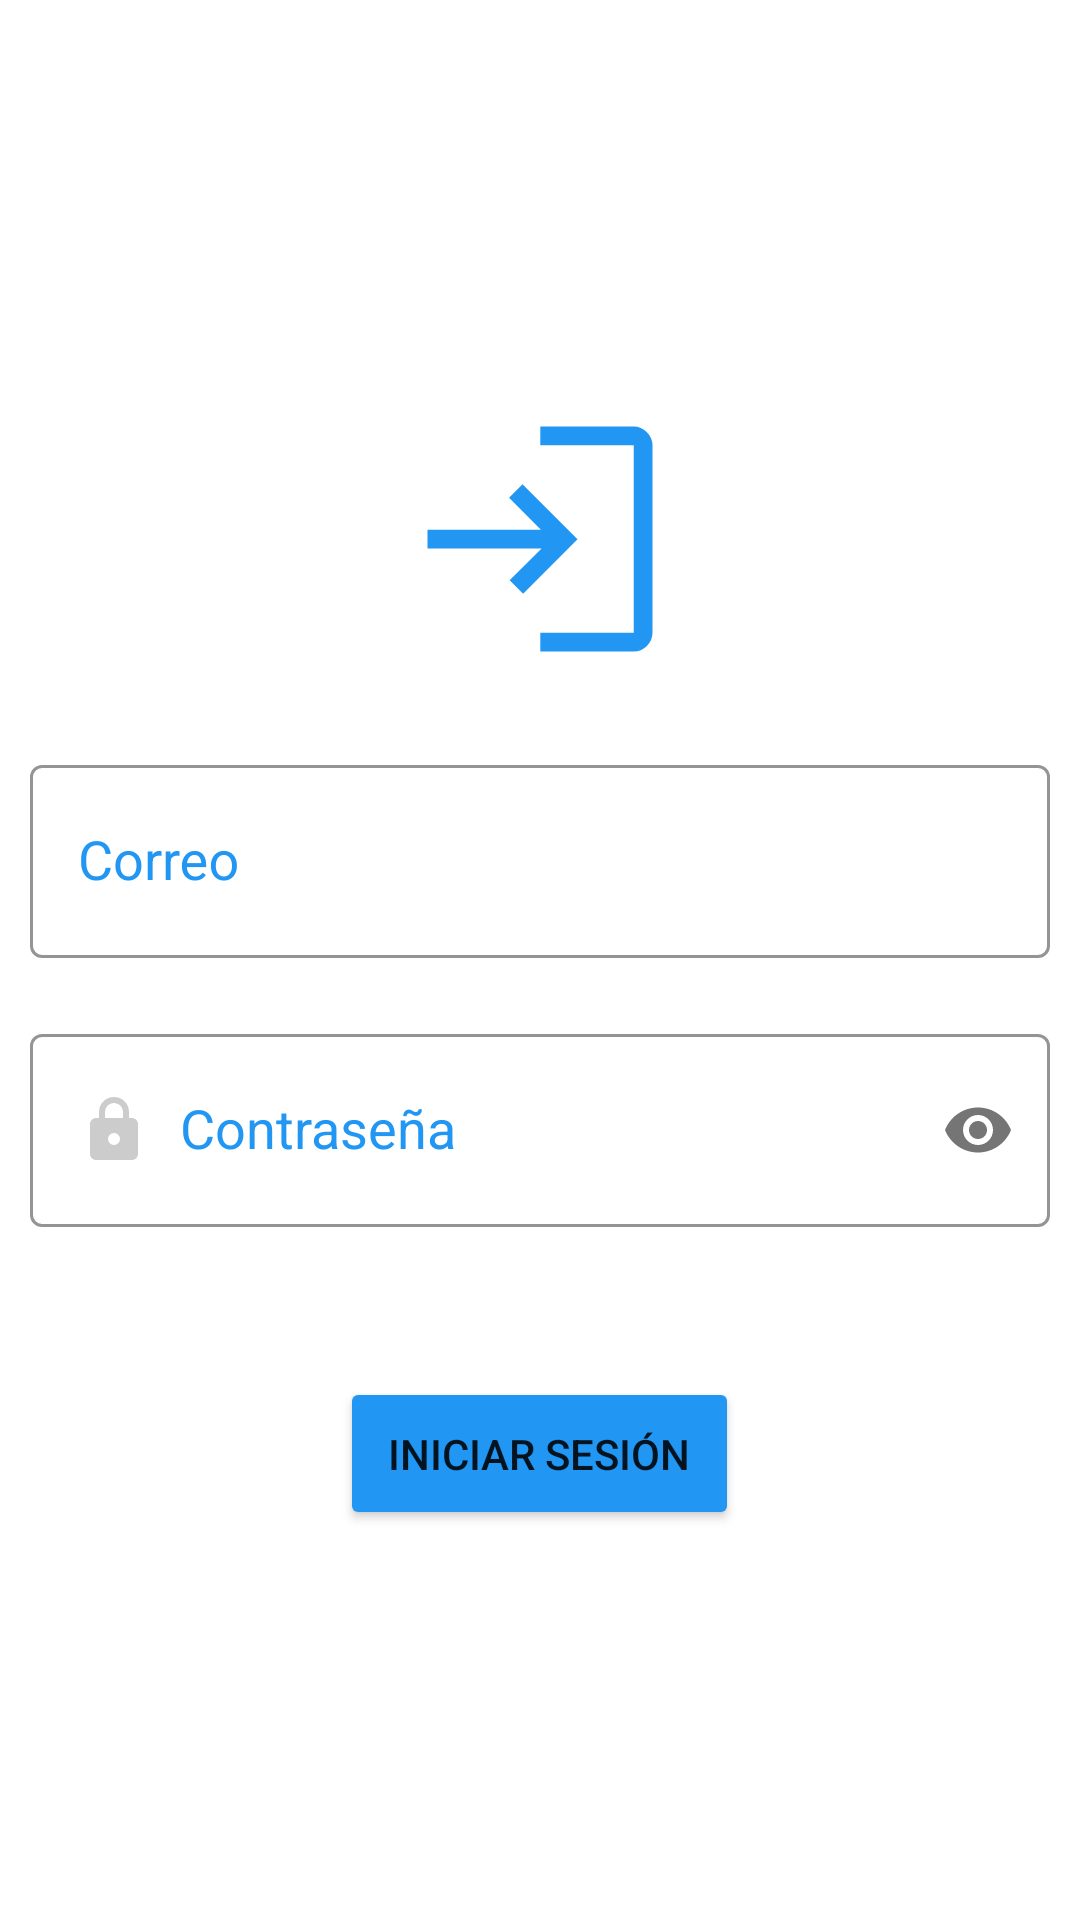

Icon click points for this 1080px x 1920px phone screenshot, format (x,y):
login: (540,539)
